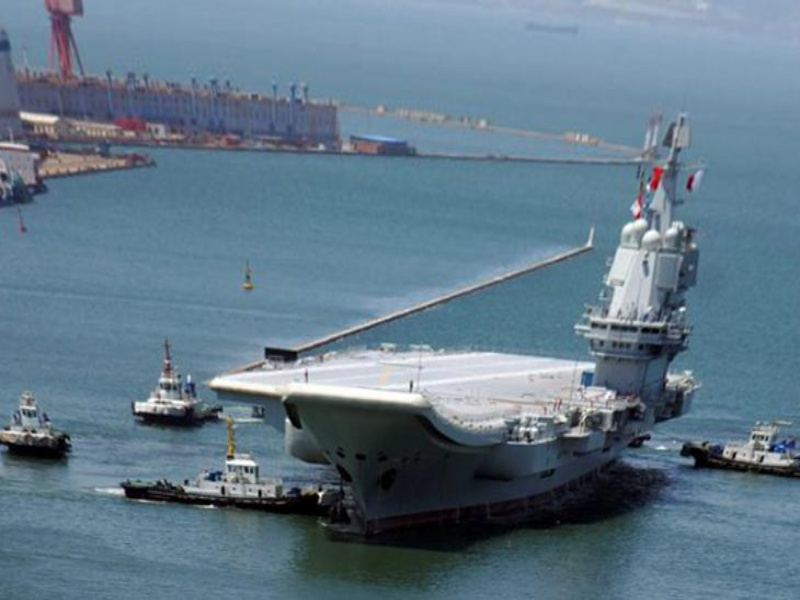boat: (119, 439, 323, 514), (122, 337, 212, 427), (684, 410, 798, 474), (9, 393, 71, 464)
carrier: (210, 160, 695, 524)
